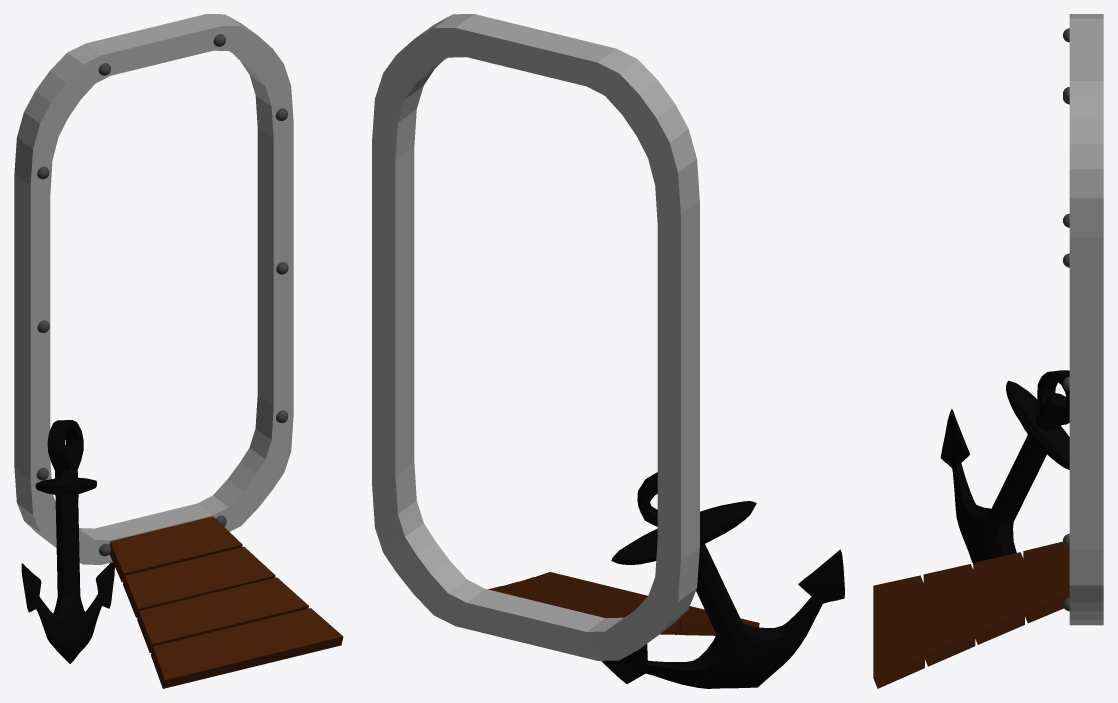
Rendered from PortalBuque.obj.
3 views of the same model, side by side, from view 1: azimuth 30°, elevation 25°; view 2: azimuth 150°, elevation 25°; view 3: azimuth 270°, elevation 25° (orthographic). The views are drawn at different scales.
Visible parts, largest first — view 1: Cube; view 2: Cube; view 3: Cube.
Part boxes in pixels (box(x1,y1,x2,y2)): Cube: box(14, 14, 343, 688); Cube: box(372, 14, 844, 688); Cube: box(873, 14, 1103, 688).
Bounding box in the file's own units: 3.75 × 6.13 × 2.16.
